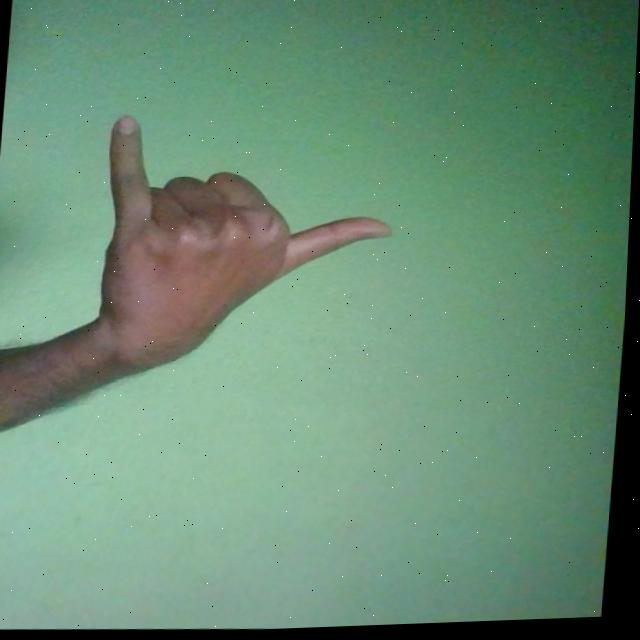Call Me: (92, 104, 402, 388)
